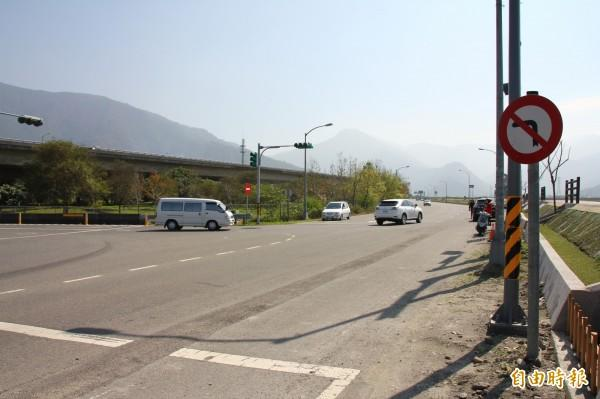no_left_turn: (496, 94, 562, 163)
